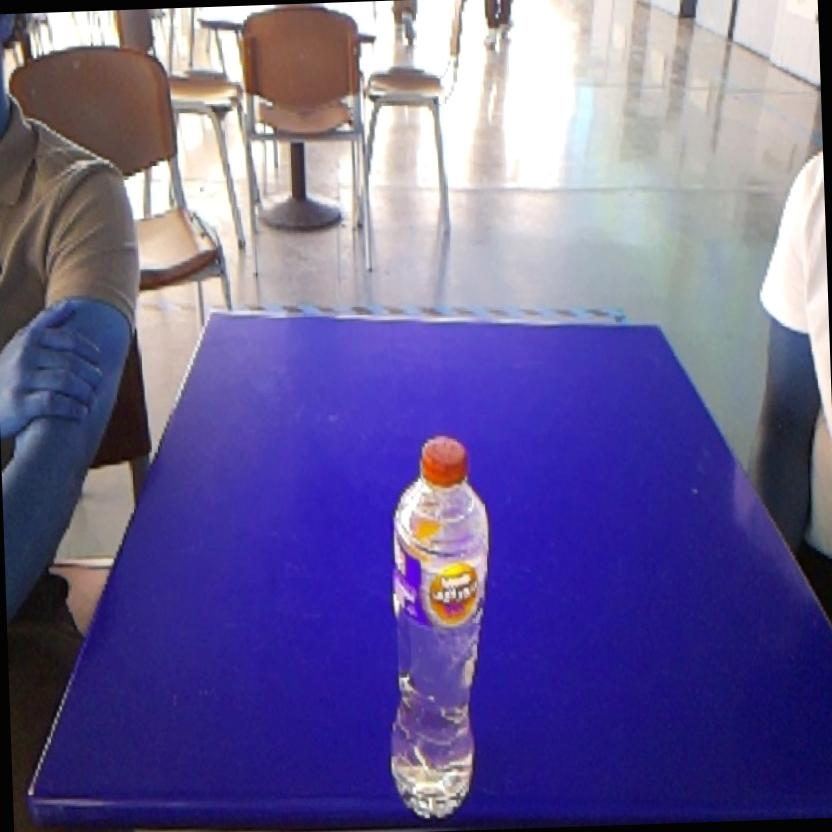good: (368, 424, 505, 832)
